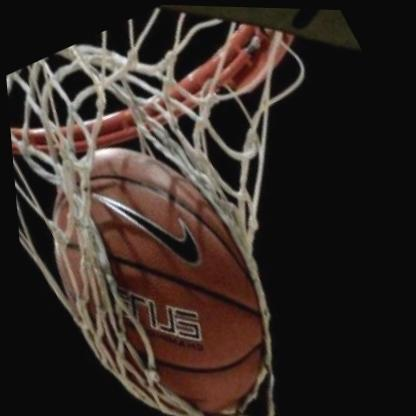basketball: (7, 107, 303, 416)
